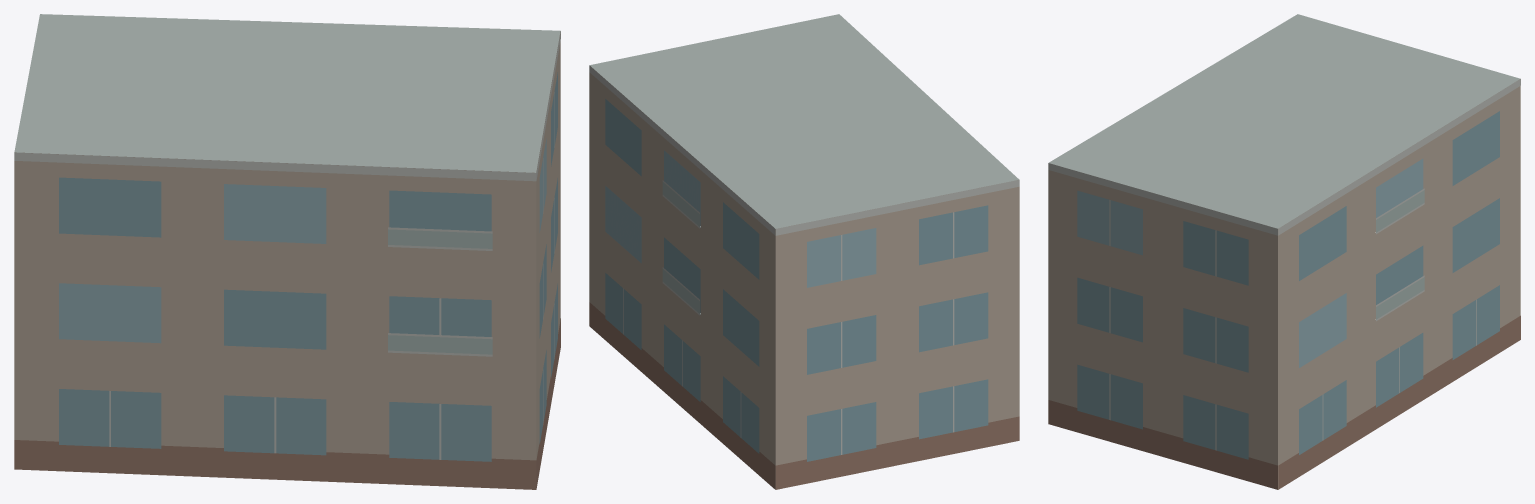
Rendered from survey-upis-32751251.glb.
The picture shows the model from 3 angles, left to right: view 1: azimuth 30°, elevation 25°; view 2: azimuth 150°, elevation 25°; view 3: azimuth 270°, elevation 25°; orthographic projection. The views are drawn at different scales.
Visible parts, largest first — view 1: survey-upis-32751251.tmp; view 2: survey-upis-32751251.tmp; view 3: survey-upis-32751251.tmp.
Part boxes in pixels (<box>): survey-upis-32751251.tmp: <box>14,14,560,489</box>; survey-upis-32751251.tmp: <box>589,14,1019,489</box>; survey-upis-32751251.tmp: <box>1048,14,1520,489</box>.
Bounding box in the file's own units: 16.15 × 9.15 × 15.01.
